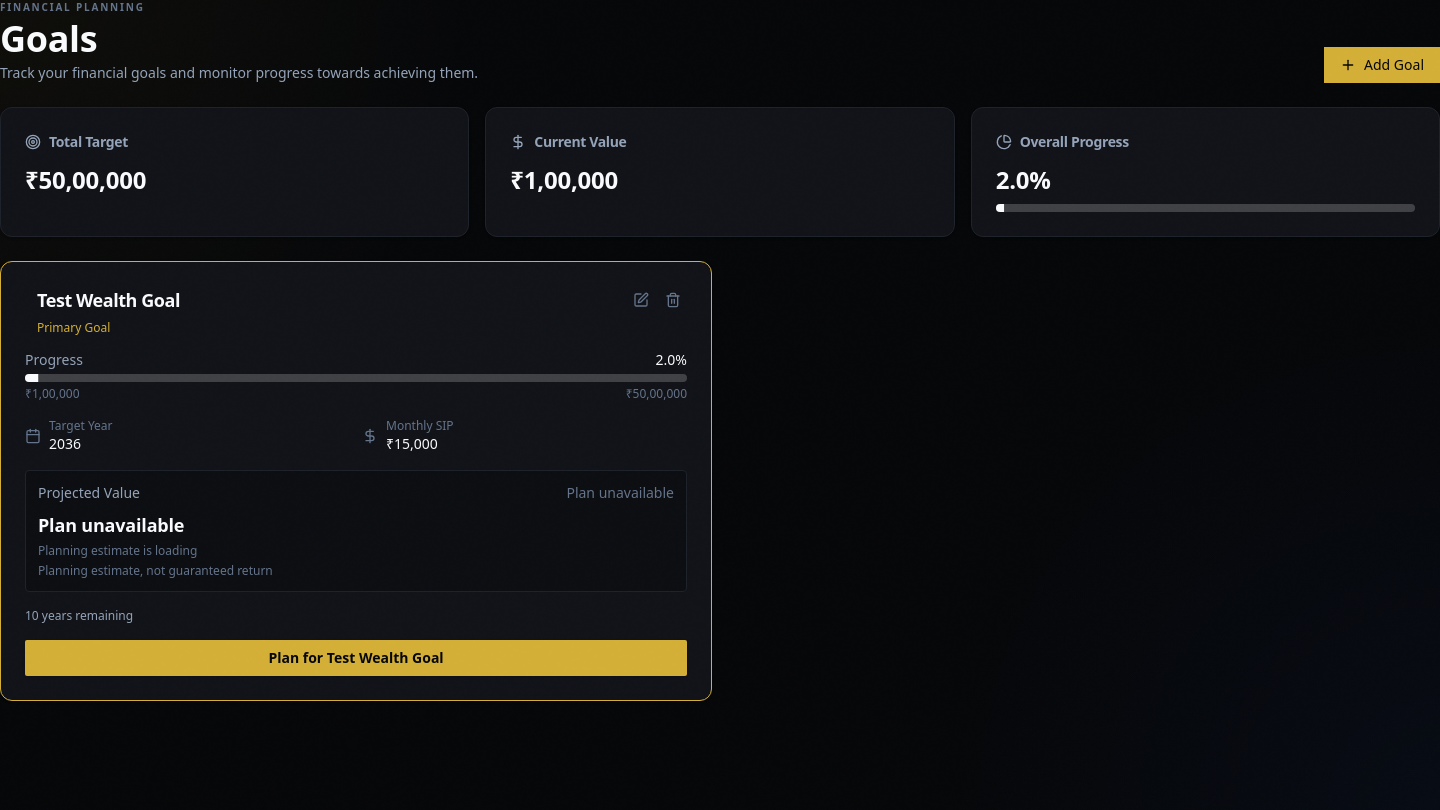
Test: Goals page — Load Eligible Stocks › an empty (UNAVAILABLE) result shows the precise backend rejection reasons, not a generic placeholder
Click the button "Plan for Test Wealth Goal": (356, 658) top-left (25, 640), bottom-right (687, 676)
(page scrolled)
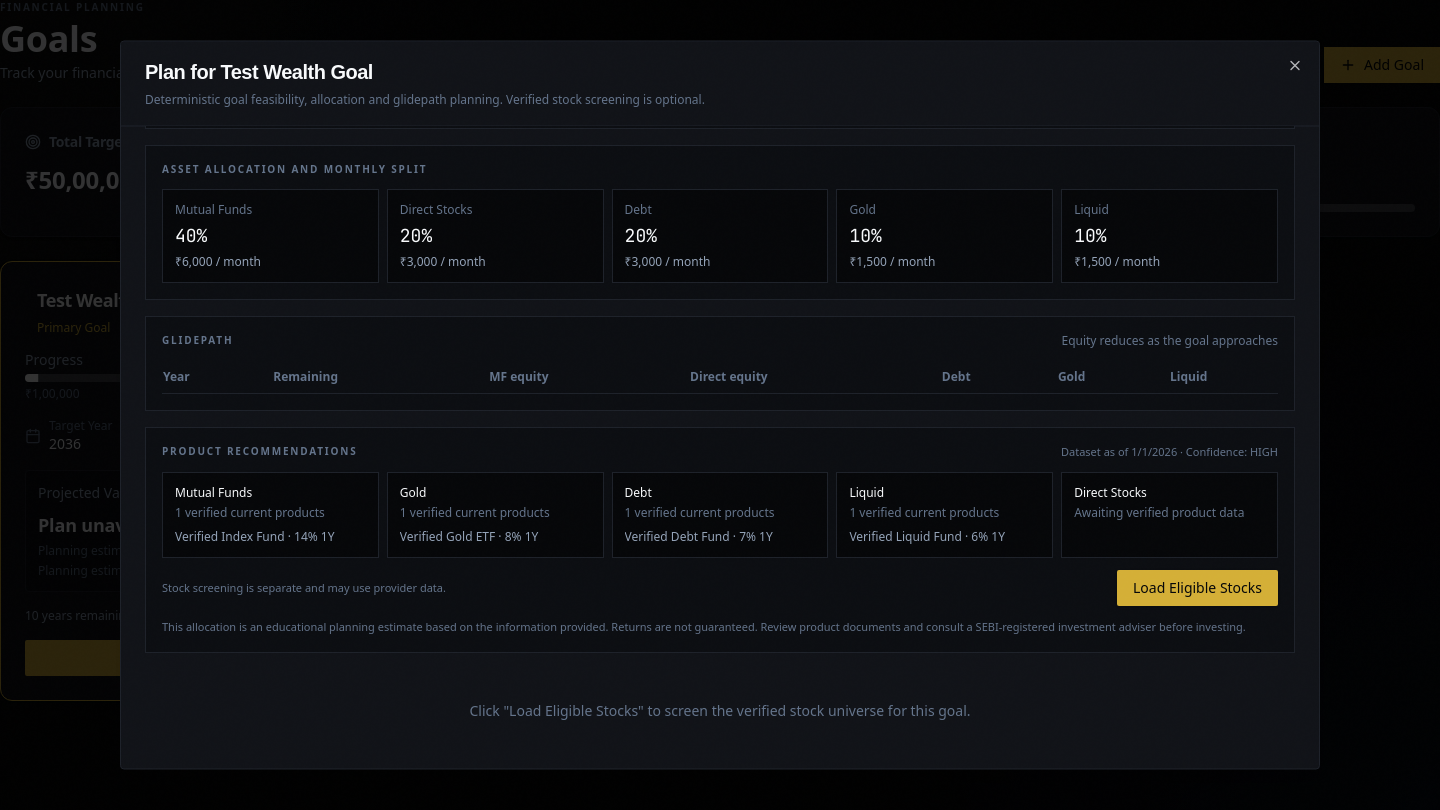
Expected: the button "Load Eligible Stocks" is shown
Click the button "Load Eligible Stocks": (1198, 588) top-left (1117, 570), bottom-right (1278, 606)
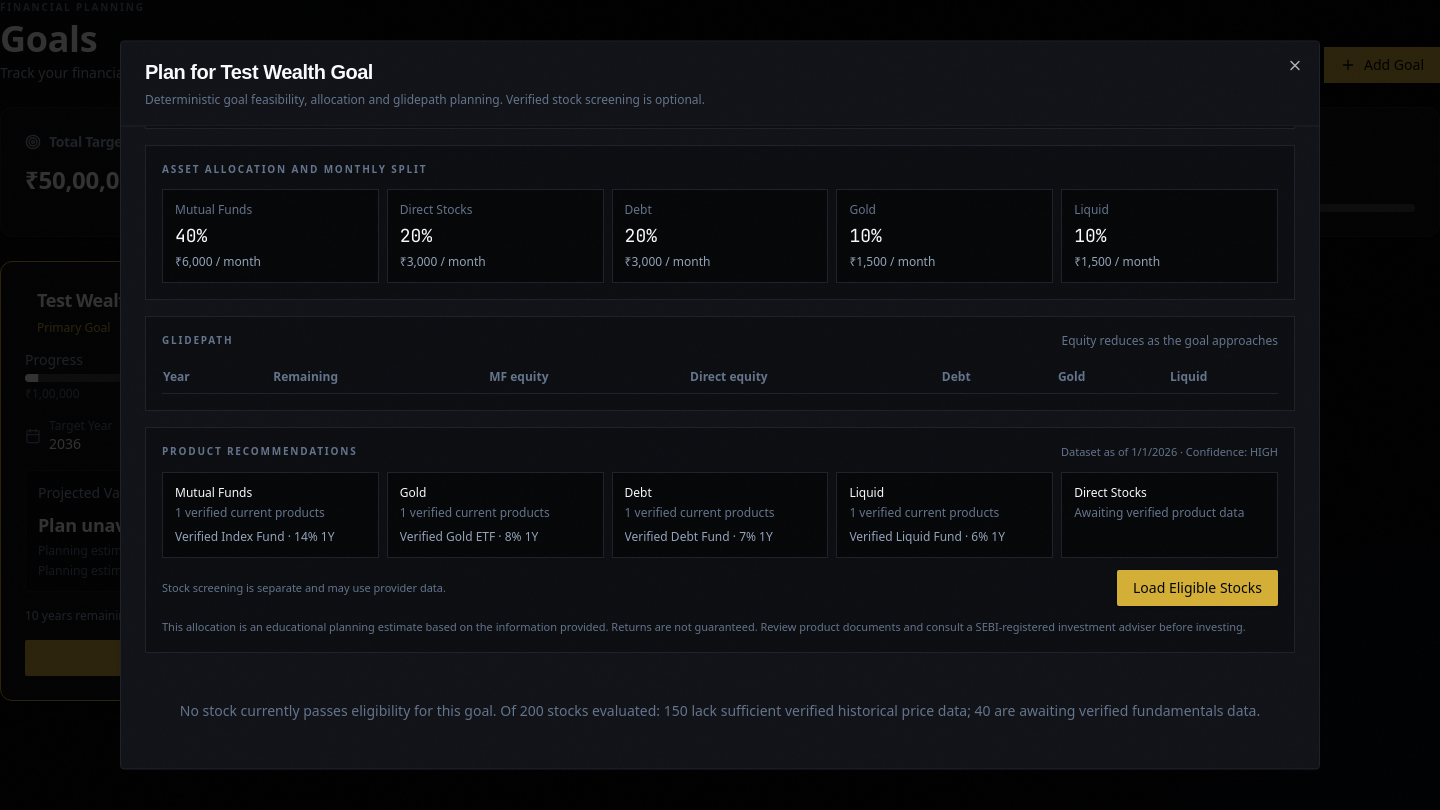
Expected: the button "Load Eligible Stocks" is enabled, top-left (1117, 570), bottom-right (1278, 606)
Expected: the text "awaiting verified fundamentals data" is shown, top-left (180, 701), bottom-right (1260, 720)
